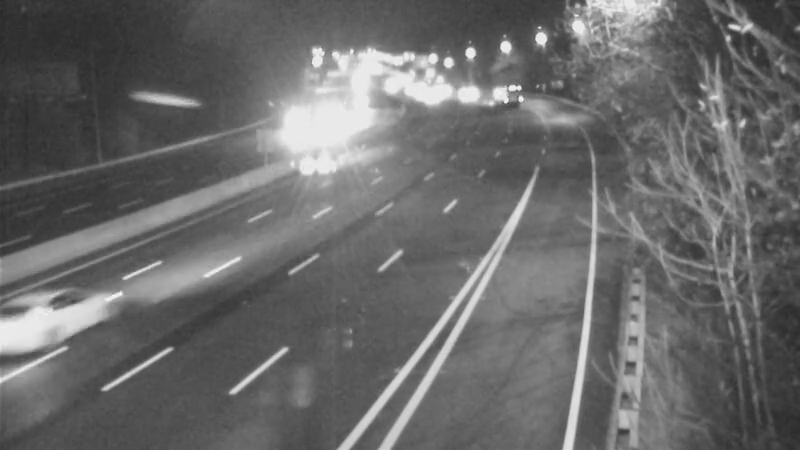vehicle: (1, 264, 102, 374), (272, 130, 352, 210), (482, 66, 532, 116), (447, 72, 497, 122), (272, 101, 322, 151), (315, 102, 365, 152)
